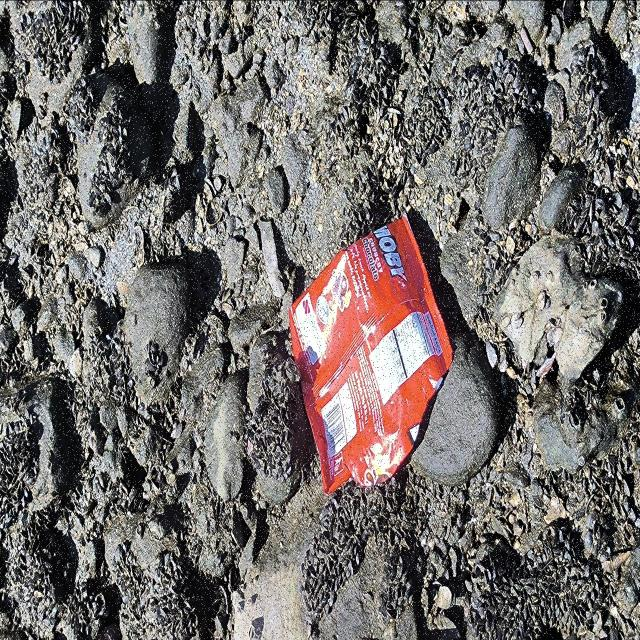plastic_waste: (288, 211, 455, 498)
